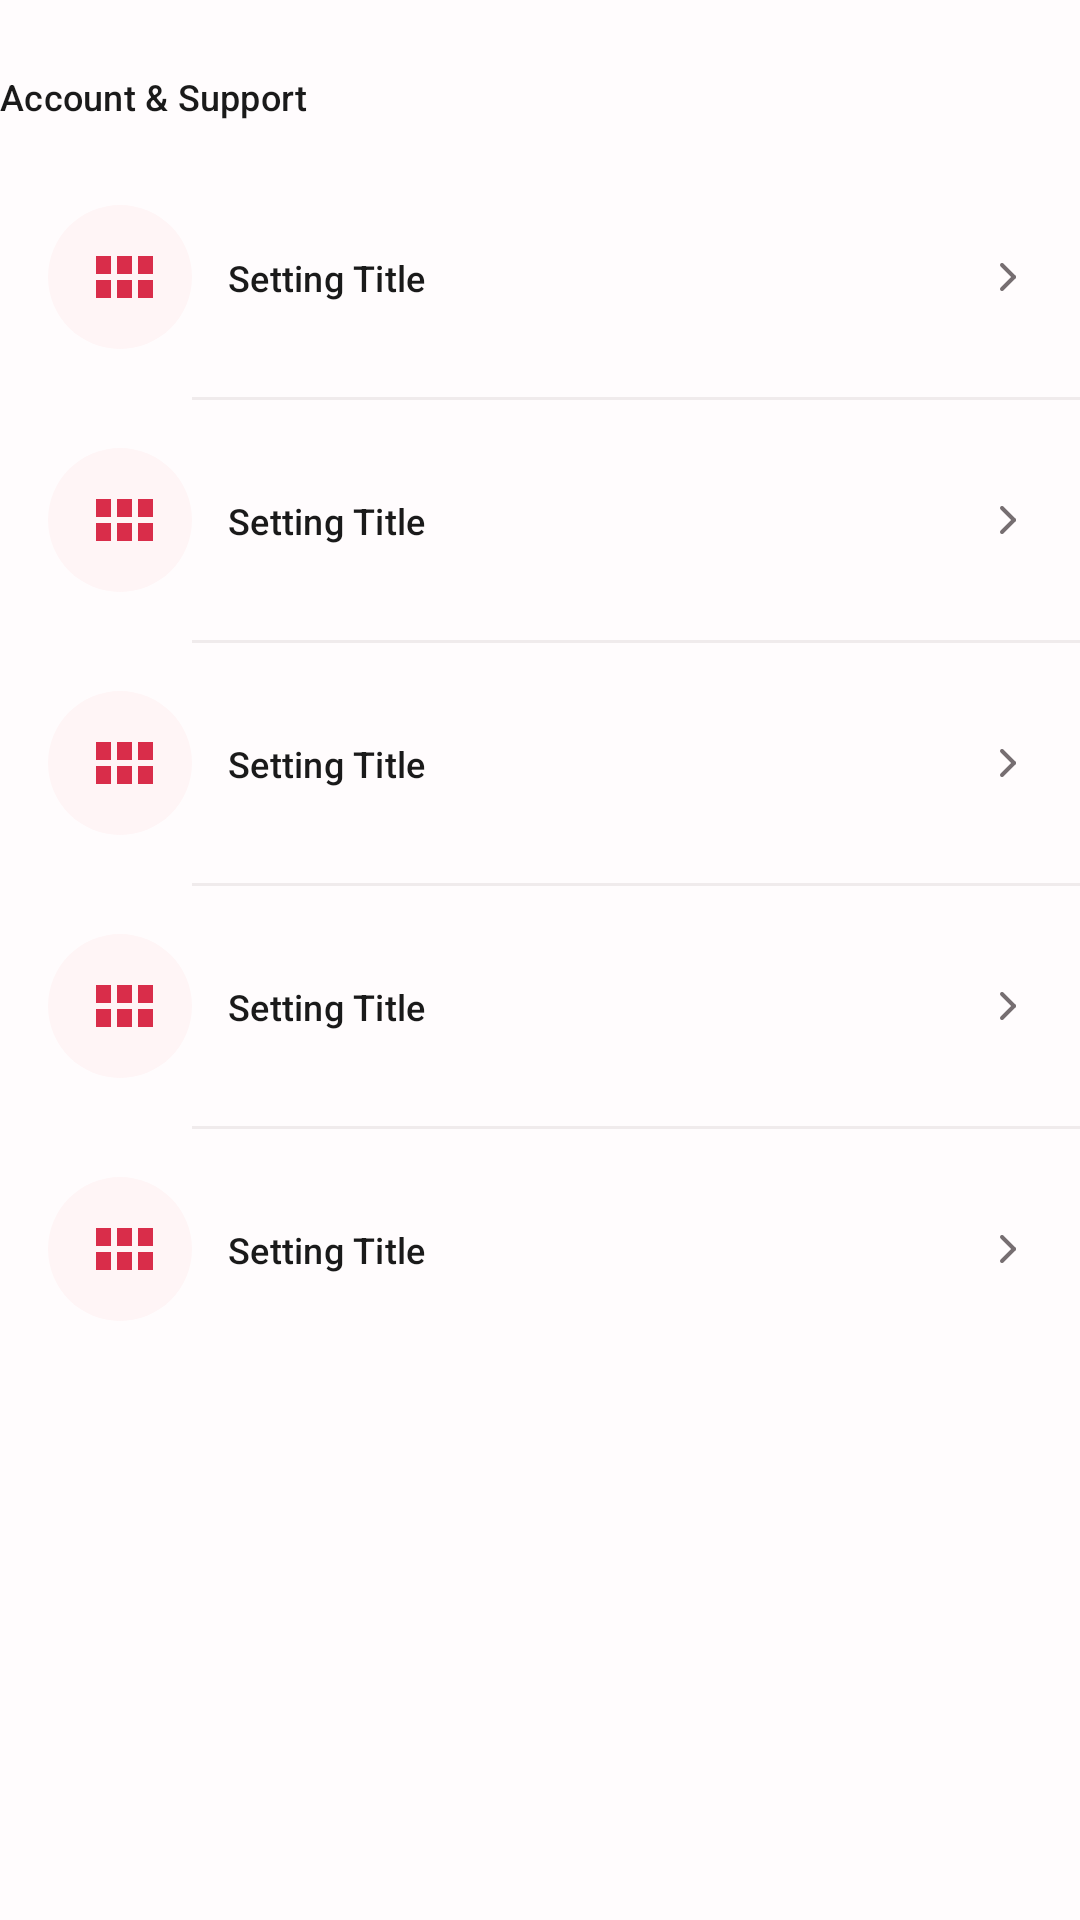

Icon click points for this 1080x1920 phone screenshot, format (x,y):
chevron right: (1008,277), (1008,520), (1008,763), (1008,1006), (1008,1249)
